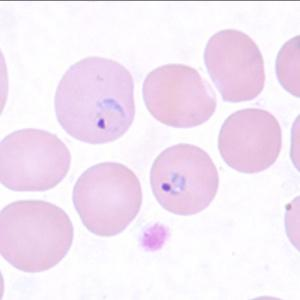Infected: (55, 54, 137, 144), (150, 143, 220, 215)
Uninfected: (72, 161, 143, 237), (0, 200, 73, 270), (143, 62, 216, 129), (0, 127, 71, 192), (205, 30, 267, 103), (218, 108, 282, 174)
